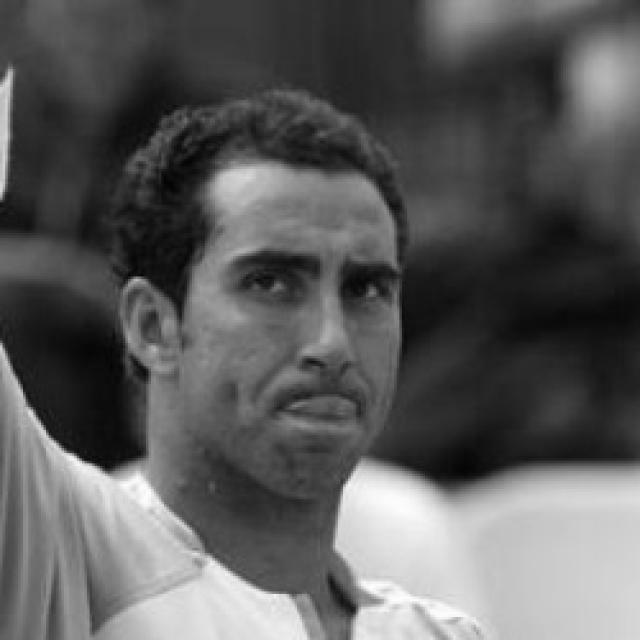real: (130, 87, 411, 504), (214, 242, 392, 313)
